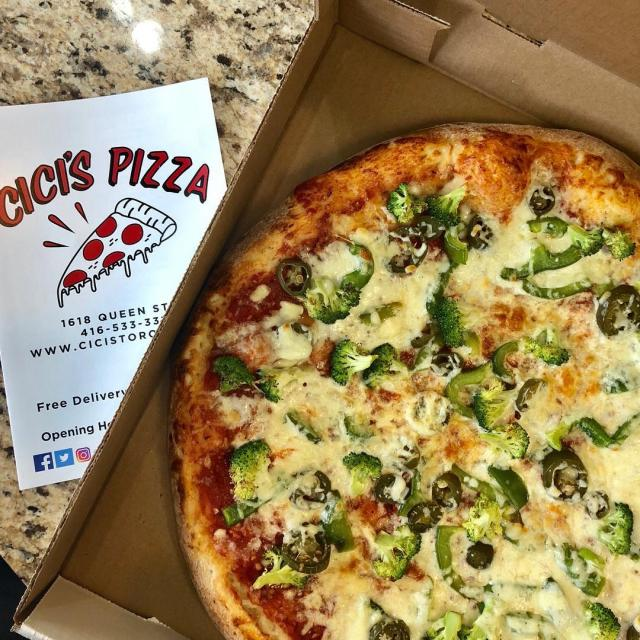pizza: (171, 124, 640, 640)
